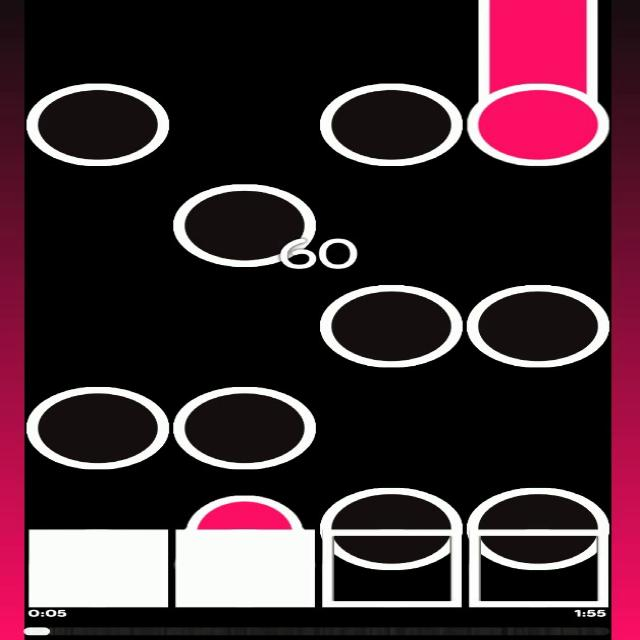end_hold: (179, 492, 310, 530)
note: (25, 82, 170, 167), (317, 284, 463, 368), (320, 82, 464, 167), (172, 183, 316, 268), (26, 384, 169, 468), (322, 487, 464, 570), (174, 385, 314, 468), (468, 284, 608, 366), (468, 488, 608, 569)
start_hold: (469, 61, 607, 166)
